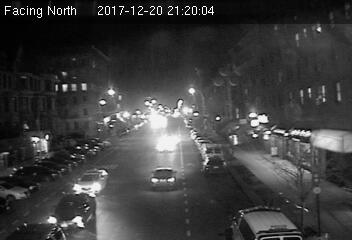car: (46, 193, 96, 229), (74, 167, 108, 196), (150, 168, 177, 190), (200, 156, 228, 176)
police: (229, 203, 310, 240)
